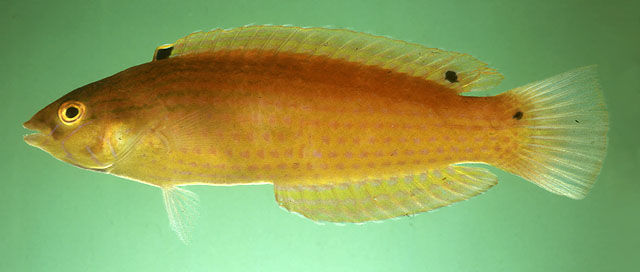fish: (21, 22, 611, 247)
